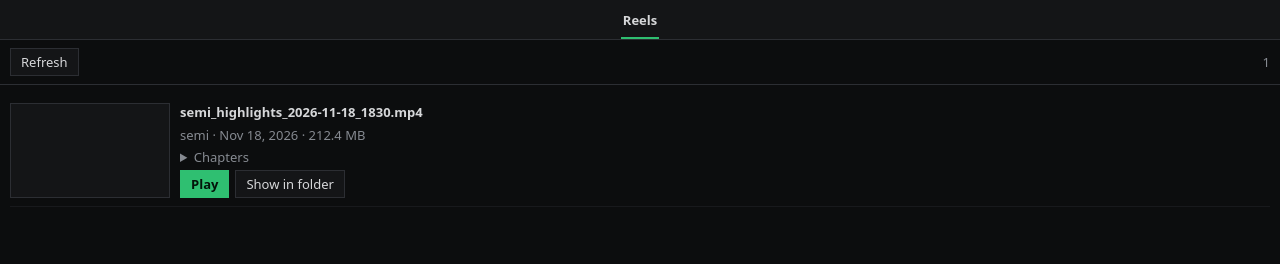
Test: a reel that cannot be opened says why
This screenshot has width=1280, height=264.
Click the button "Play" at (205, 184), box x1=180 y1=170 x2=229 y2=198
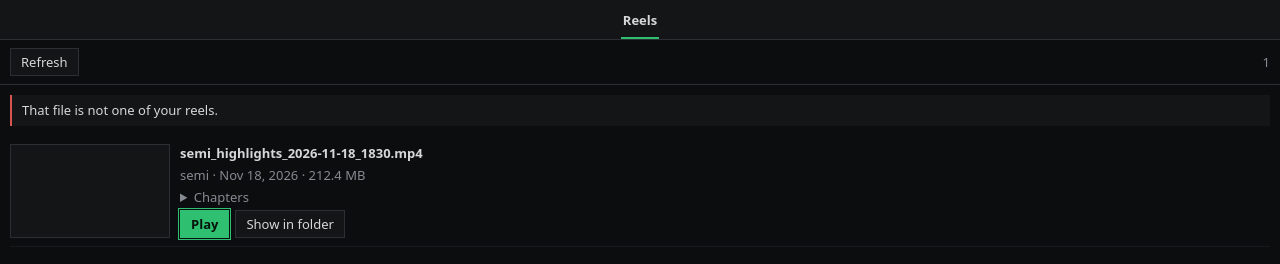
Expected: the text "That file is not one of your reels." is shown, x1=10 y1=95 x2=1270 y2=126
